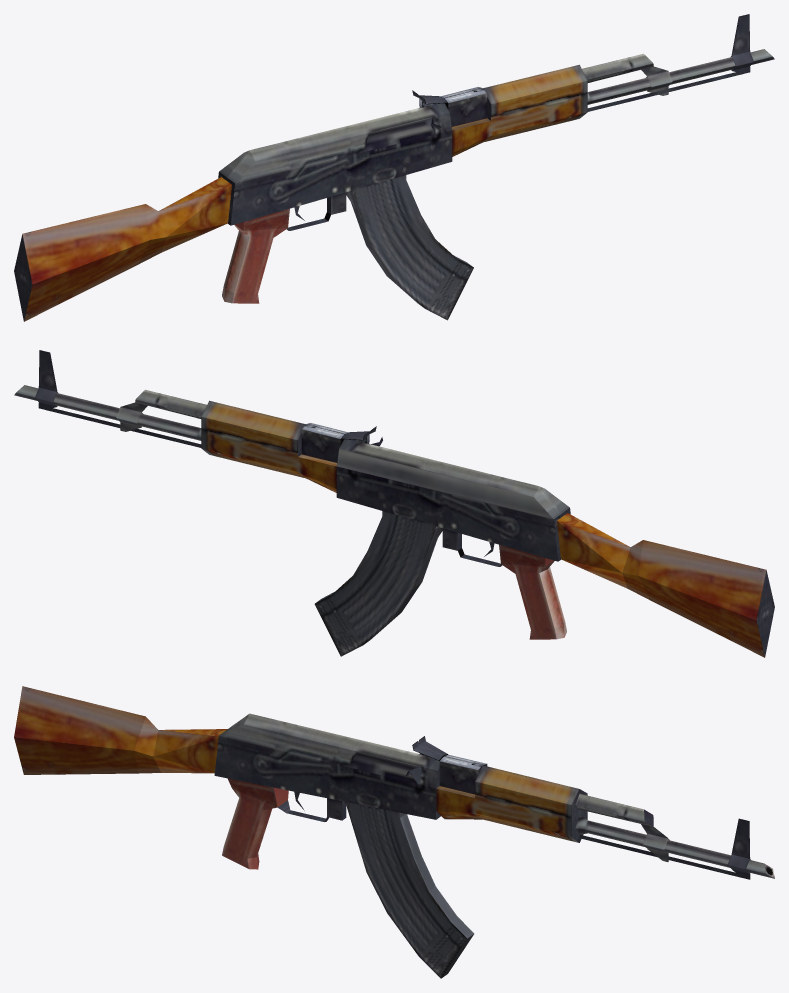
File: akm.glb
The picture shows the model from 3 angles, top to bottom: view 1: azimuth 30°, elevation 25°; view 2: azimuth 150°, elevation 25°; view 3: azimuth 330°, elevation 25°; orthographic projection.
Visible parts, largest first — view 1: AKM, AKM_Mag_Empty; view 2: AKM, AKM_Mag_Empty; view 3: AKM, AKM_Mag_Empty.
Part boxes in pixels (<box>): AKM: <box>14,14,774,321</box>; AKM_Mag_Empty: <box>346,175,473,320</box>; AKM: <box>14,350,774,657</box>; AKM_Mag_Empty: <box>314,511,442,656</box>; AKM: <box>14,686,774,879</box>; AKM_Mag_Empty: <box>345,802,474,978</box>.
Size of the model in its own units: 4.48 by 1.31 by 0.2813.
1 material, 1 textured.
